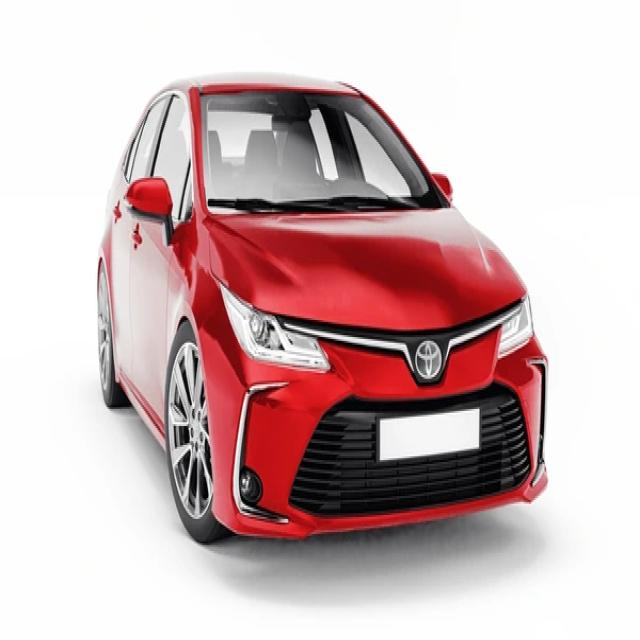toyota: (413, 335, 449, 377)
